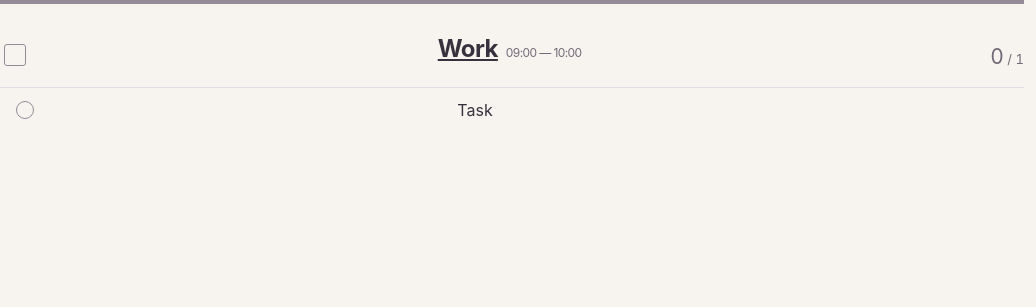
Scenario: daily preserves unchecked state on required-value failure
Click the checkbox named "Work 모든 태스크 완료": (15, 55) [4, 44, 26, 66]
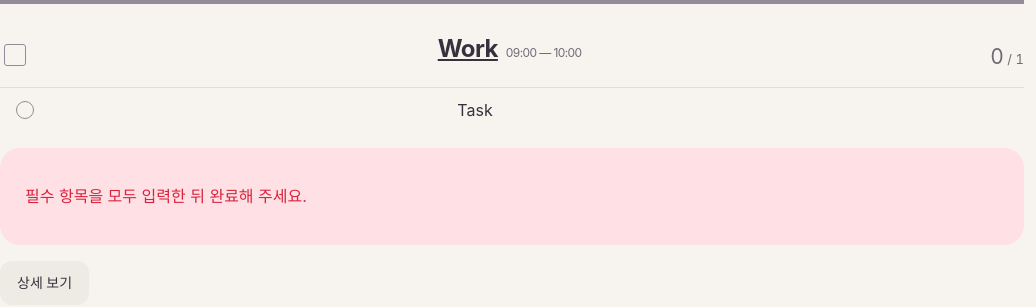
Expected: the message shows "필수 항목", [25, 186, 307, 206]
